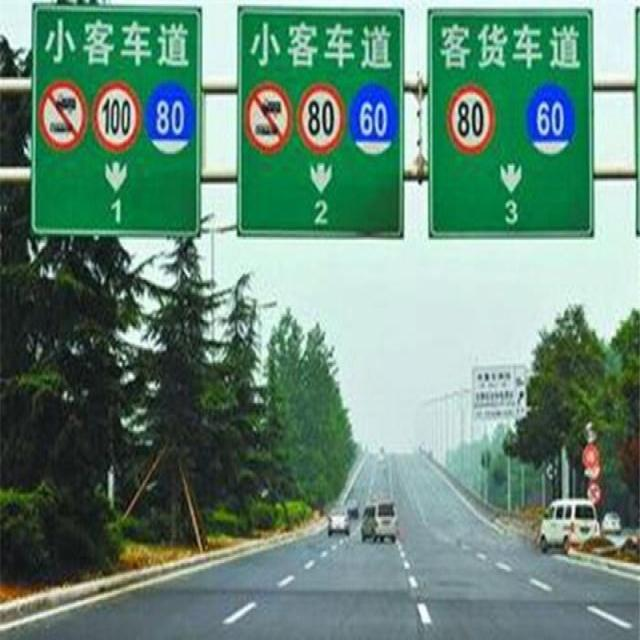speed limit 100: (92, 83, 142, 152)
speed limit 60: (526, 82, 576, 158), (349, 82, 398, 156)
speed limit 80: (145, 81, 195, 154), (297, 80, 345, 155), (446, 85, 496, 157)
